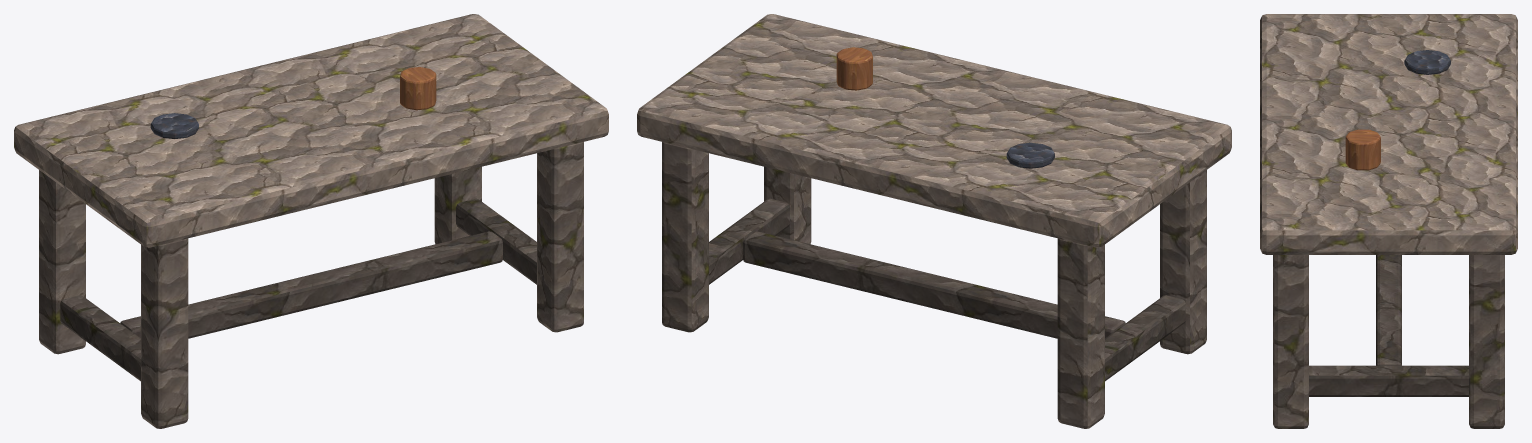
Rendered from table__cut_stone.glb.
3 renders of one model, left to right at view 1: azimuth 30°, elevation 25°; view 2: azimuth 150°, elevation 25°; view 3: azimuth 270°, elevation 25°, orthographic. The views are drawn at different scales.
Parts seen in each view (by area): view 1: model; view 2: model; view 3: model.
Boxes of the visible parts, x1,y1,x2,y2 form: model: (14,14,608,428); model: (637,14,1231,428); model: (1260,14,1517,428).
Bounding box in the file's own units: 2 × 1.02 × 1.
Materials: 5 (5 with a texture image).
